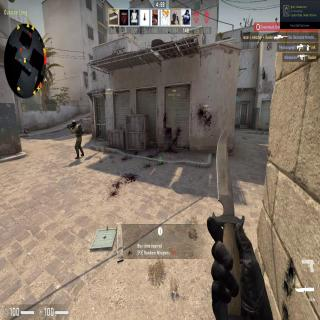CT-Body: (175, 143, 178, 151)
